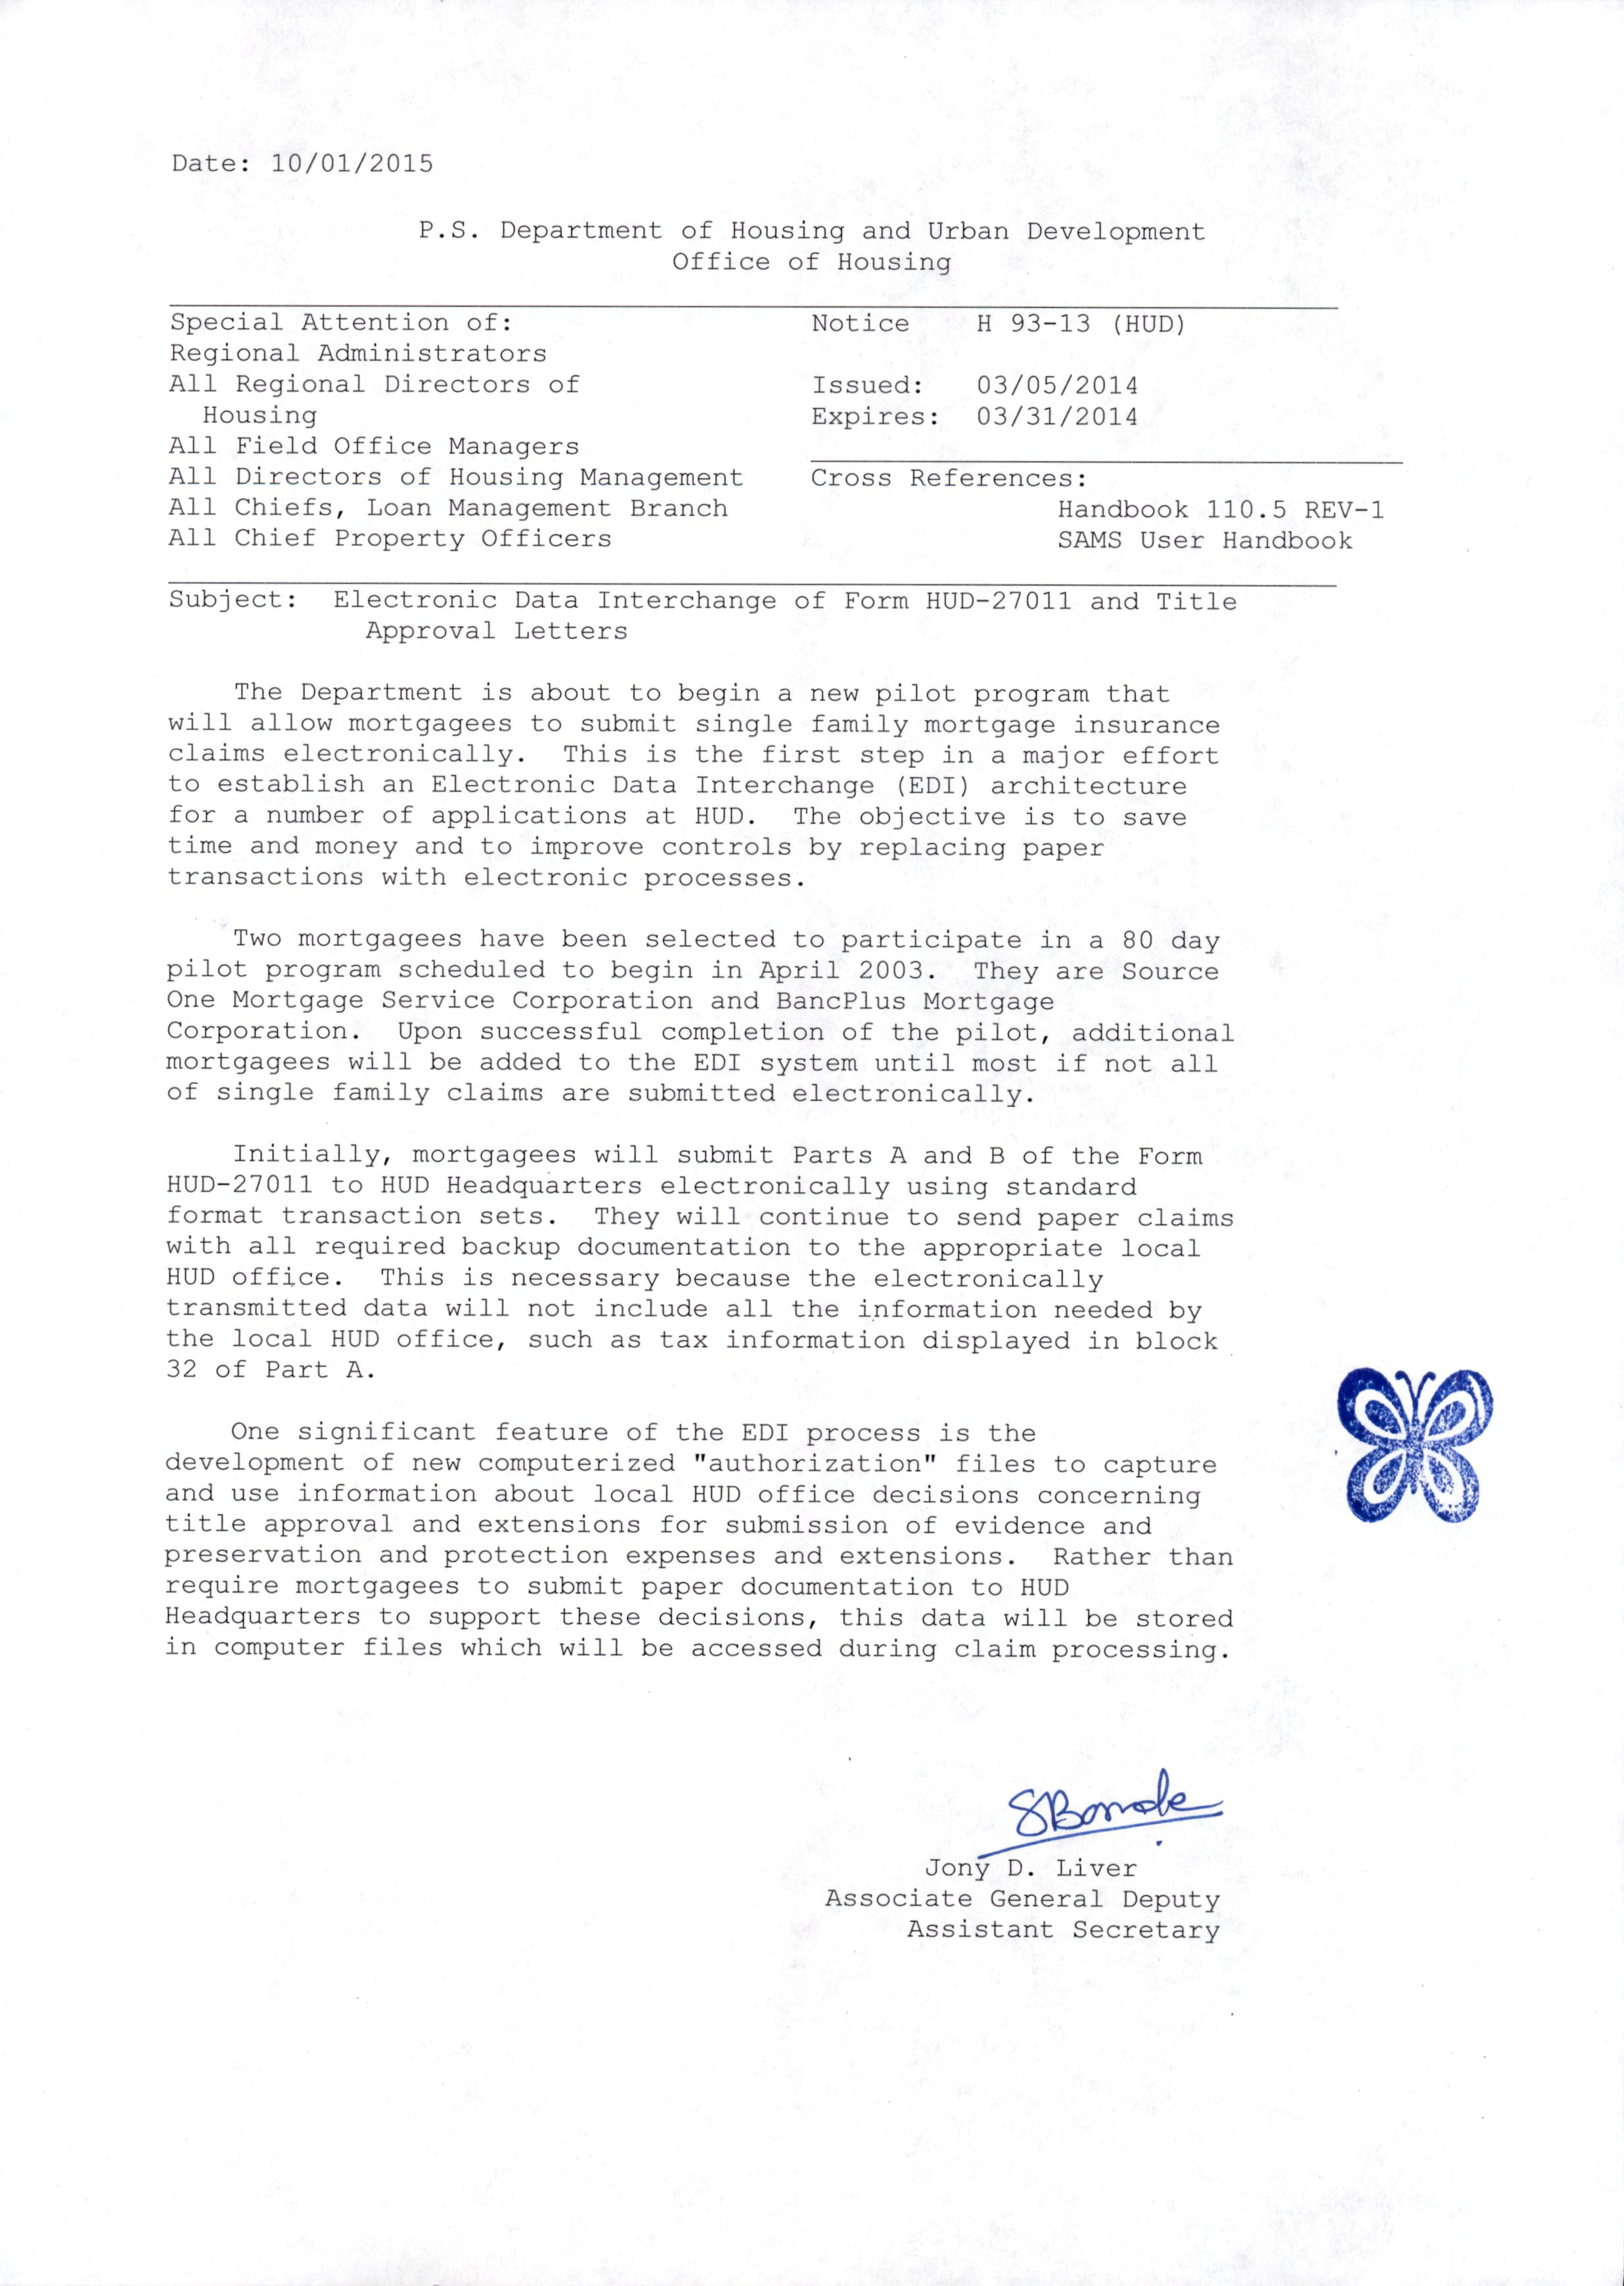Signature: (970, 1764, 1229, 1861)
